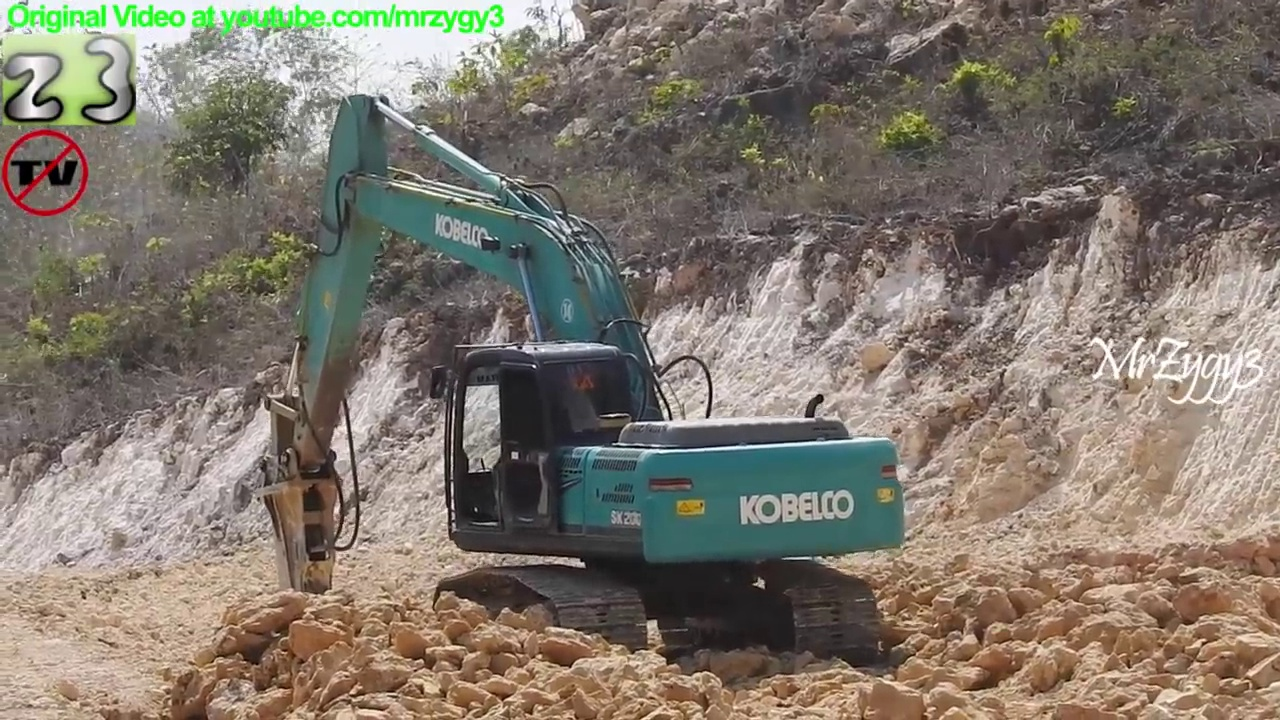excavator breaker: (247, 90, 916, 679)
